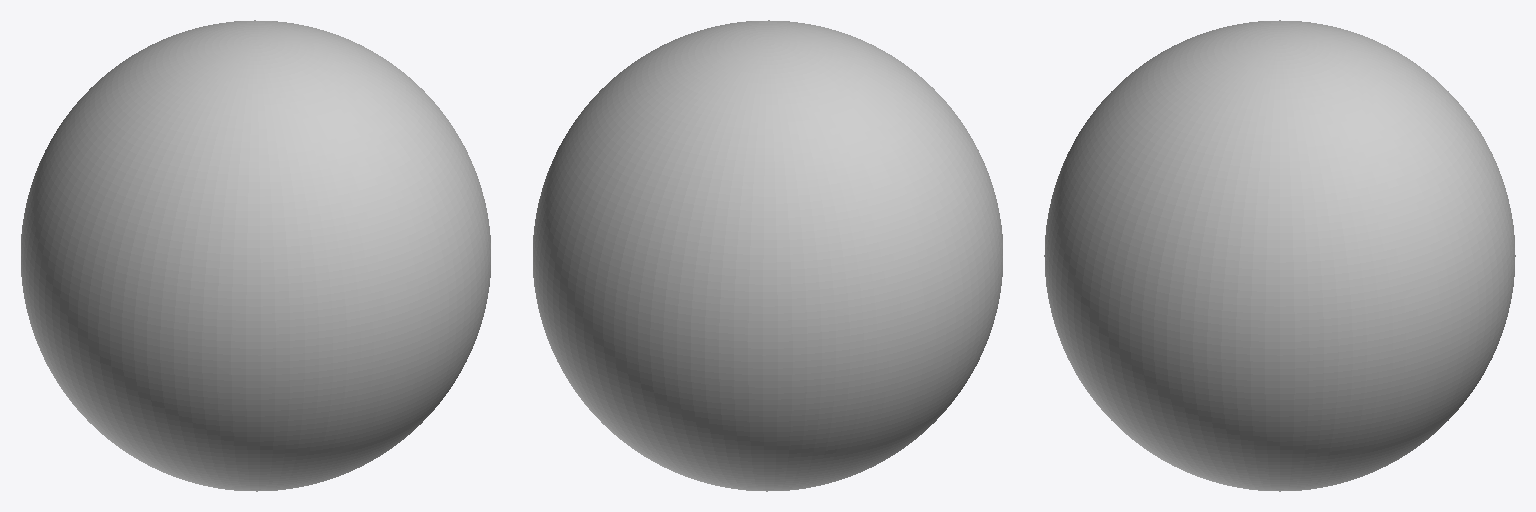
Rendered from Planet.obj.
3 views of the same model, side by side, from view 1: azimuth 30°, elevation 25°; view 2: azimuth 150°, elevation 25°; view 3: azimuth 270°, elevation 25° (orthographic).
Visible parts, largest first — view 1: Sphere_Sphere.001; view 2: Sphere_Sphere.001; view 3: Sphere_Sphere.001.
Part boxes in pixels (x1,y1,x2,y2): Sphere_Sphere.001: (21, 20, 490, 491); Sphere_Sphere.001: (533, 20, 1002, 491); Sphere_Sphere.001: (1044, 20, 1515, 491).
Size of the model in its own units: 2 by 2 by 2.